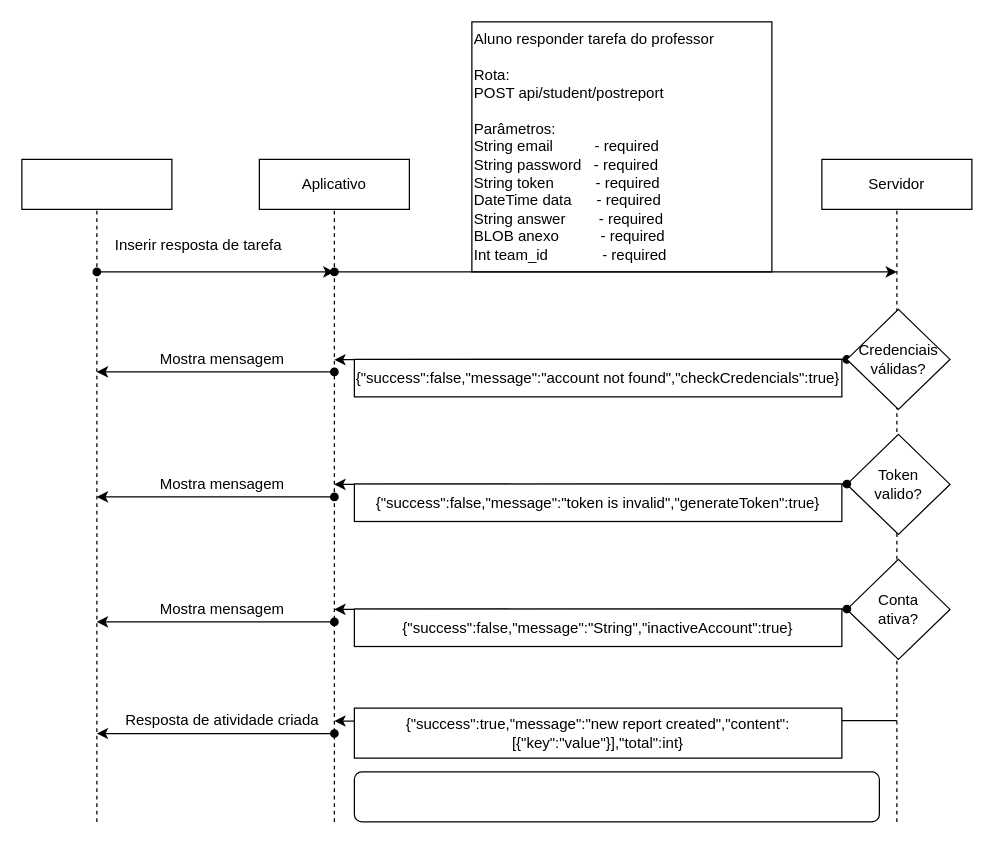
The diagram is 994 pixels wide and 845 high, and some of its shapes have lost their labels. The shapes that lost their labels are listed below. From the top down, each one's box as (x1, y1, x2, y2) in pixels, then its label:
(21, 158, 172, 209): Usuário
(353, 771, 879, 822): Exemplo de DateTime em "data": "2022-10-02 01:01:01"
